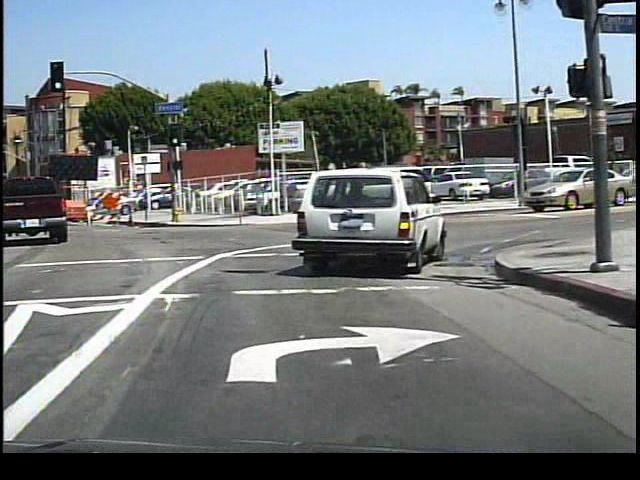person: (510, 162, 530, 205)
